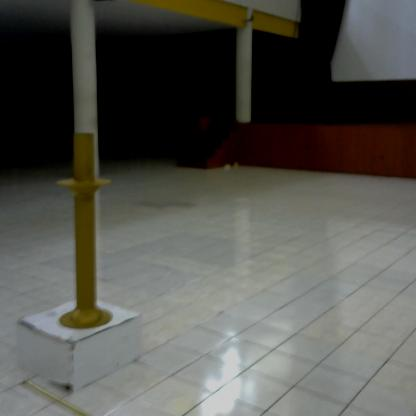pole: (50, 126, 120, 335)
